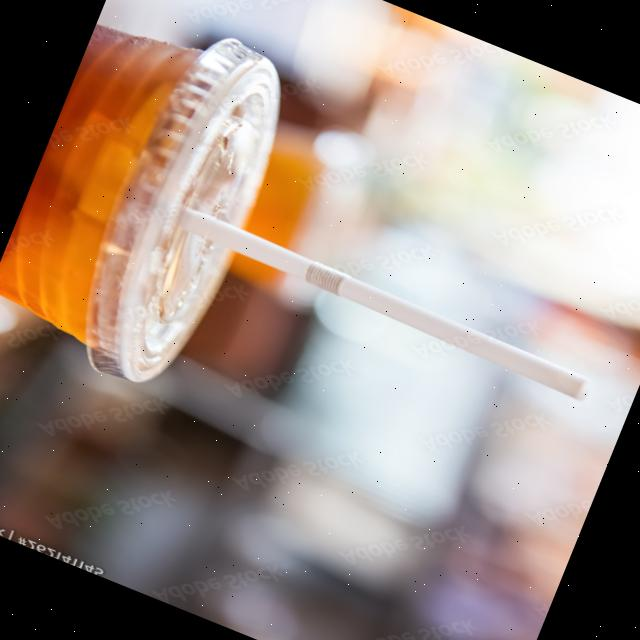plastic: (232, 220, 614, 412)
